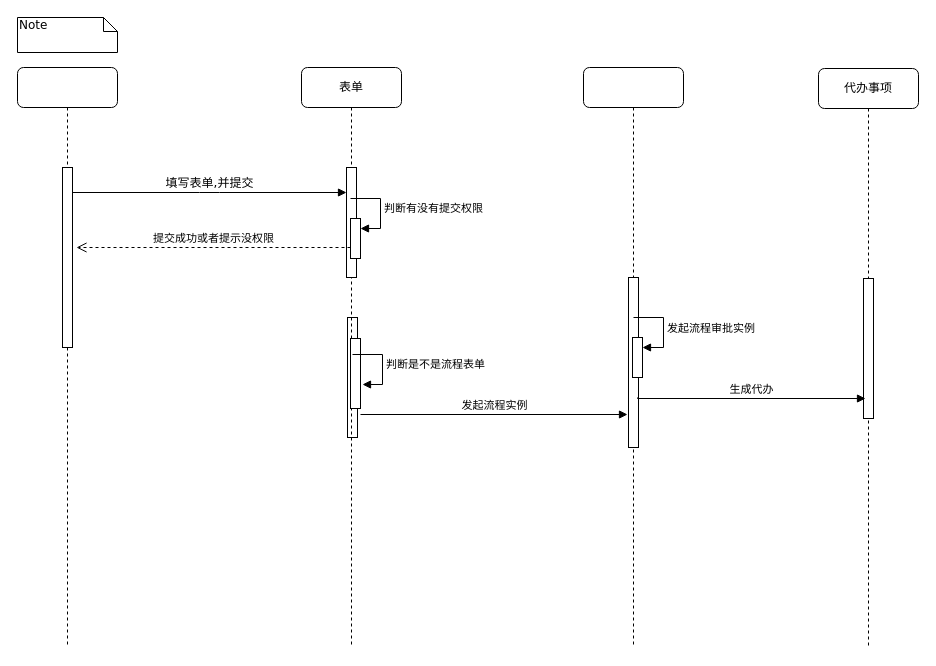
The diagram is 936 pixels wide and 666 high, and some of its shapes have lost their labels. The box of each missing label's shape, as (x1, y1, x2, y2) in pixels:
流程: (582, 66, 684, 648)
用户: (16, 66, 118, 648)
